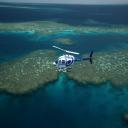helicopter: (53, 47, 94, 73)
